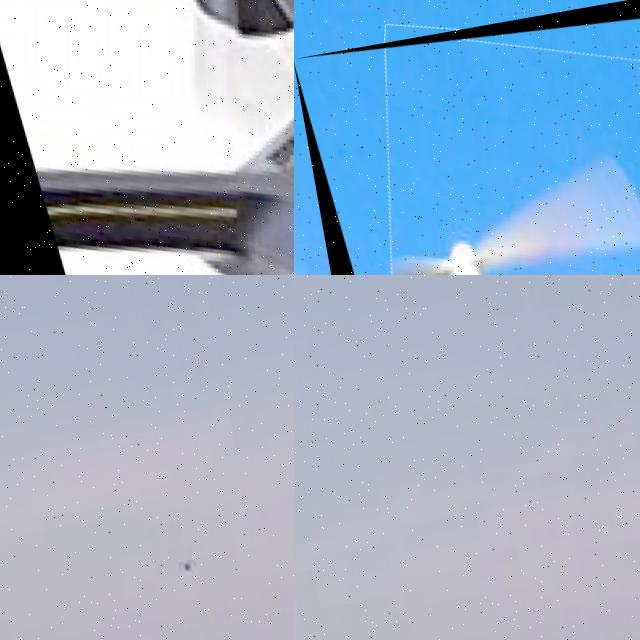drone: (294, 0, 640, 275), (0, 0, 294, 275)
